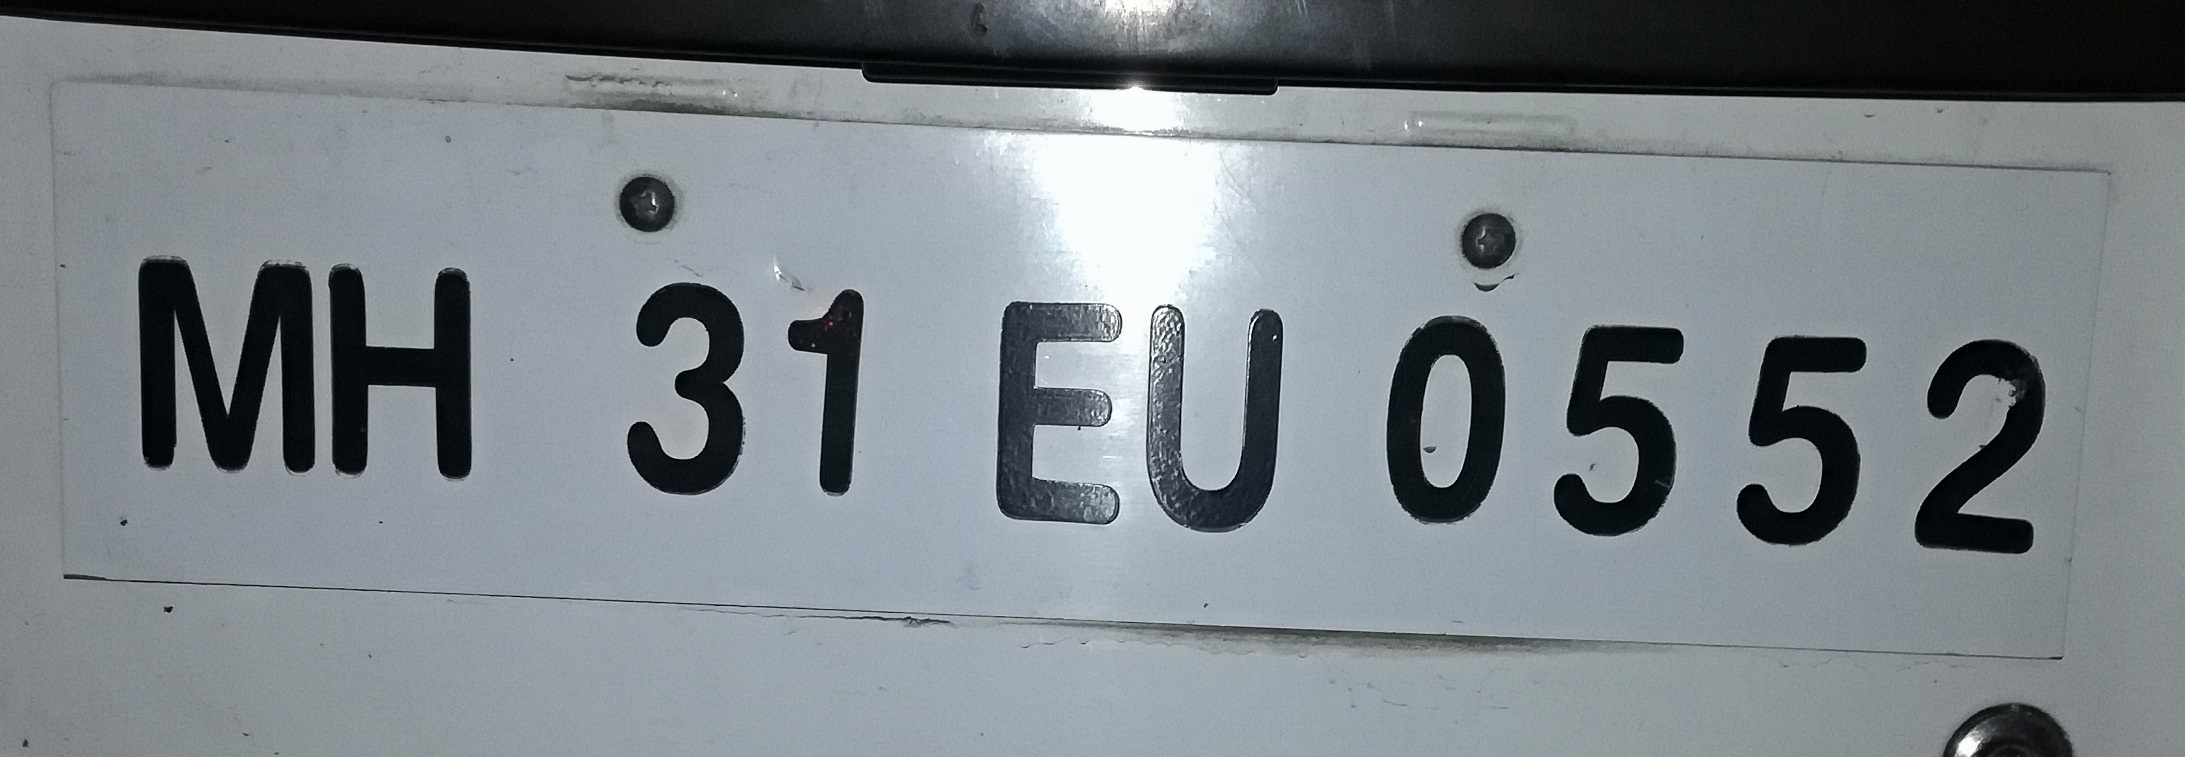numberplate: (42, 72, 2098, 663)
